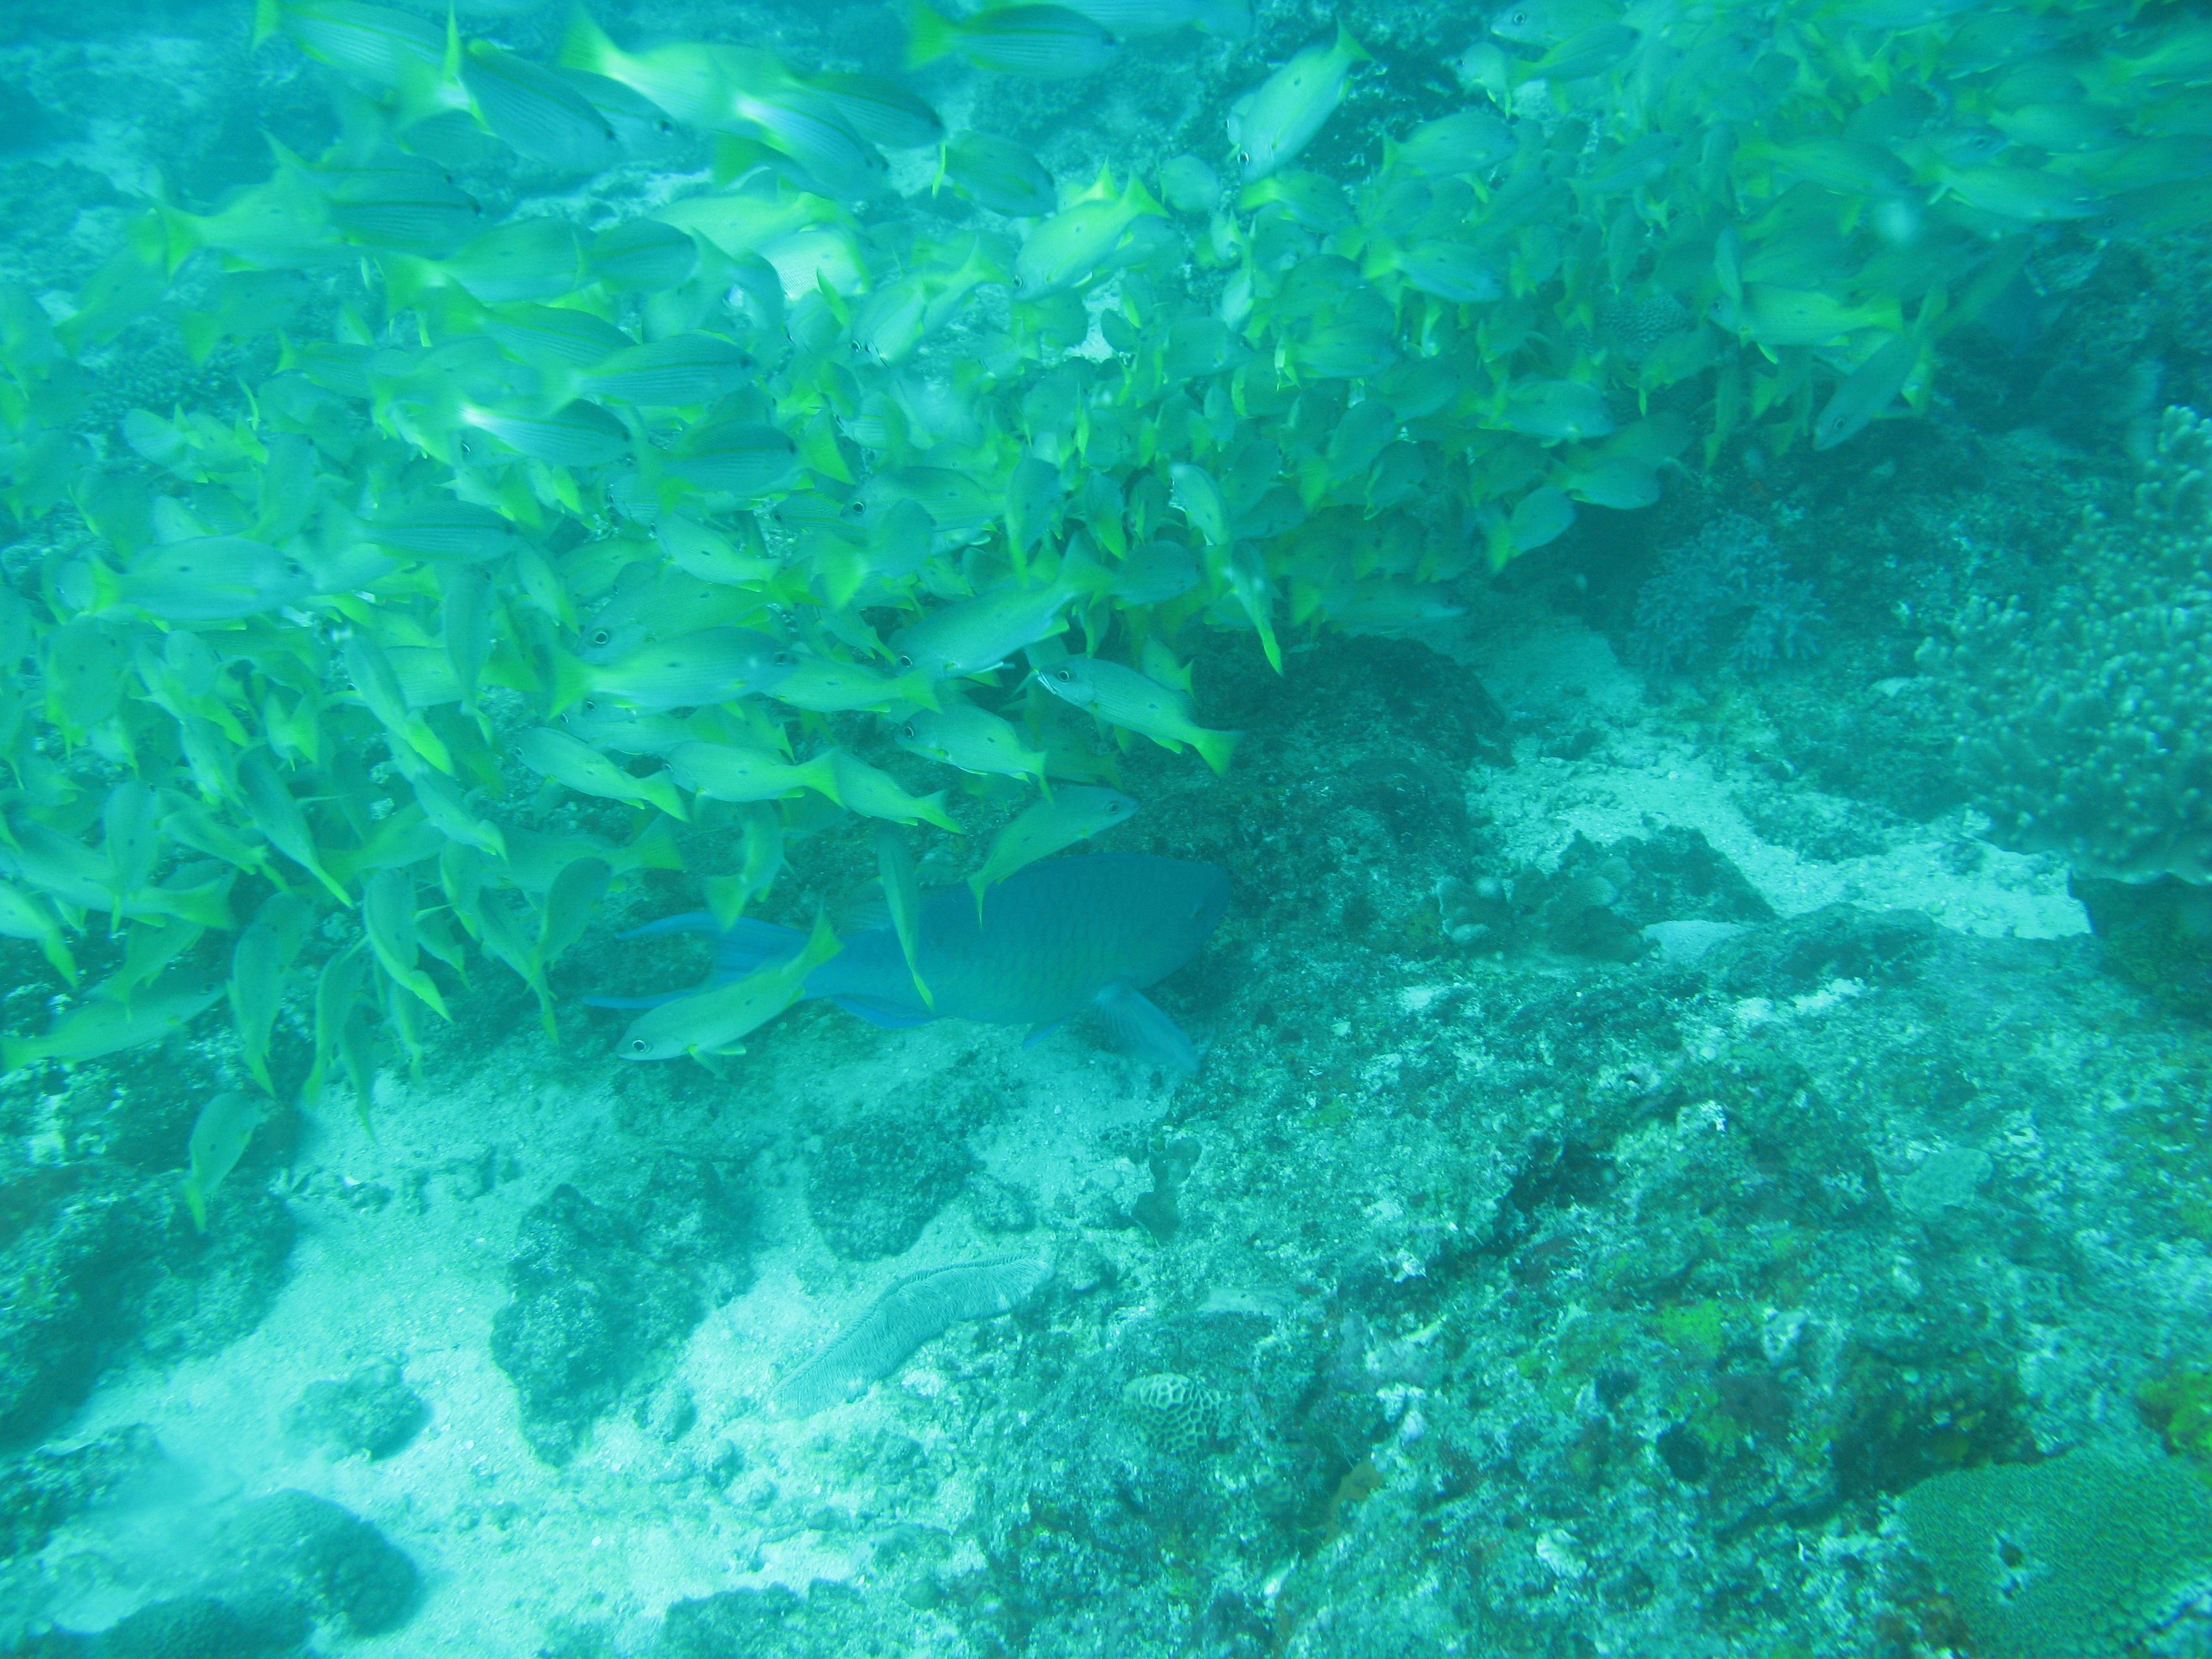Scarus rubroviolaceus: (611, 840, 1261, 1084)
